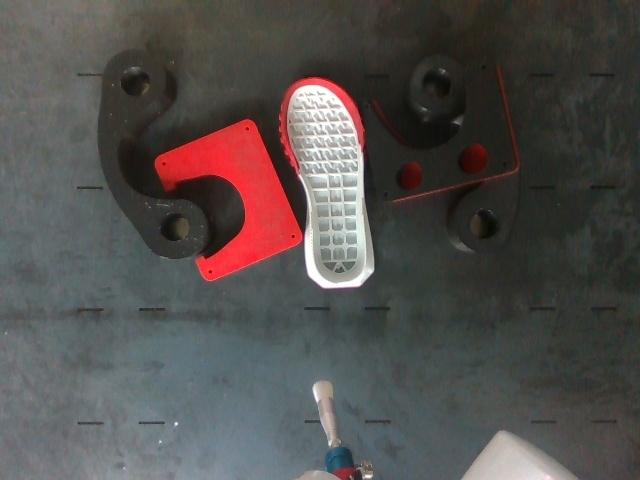shoes: (281, 79, 366, 283)
